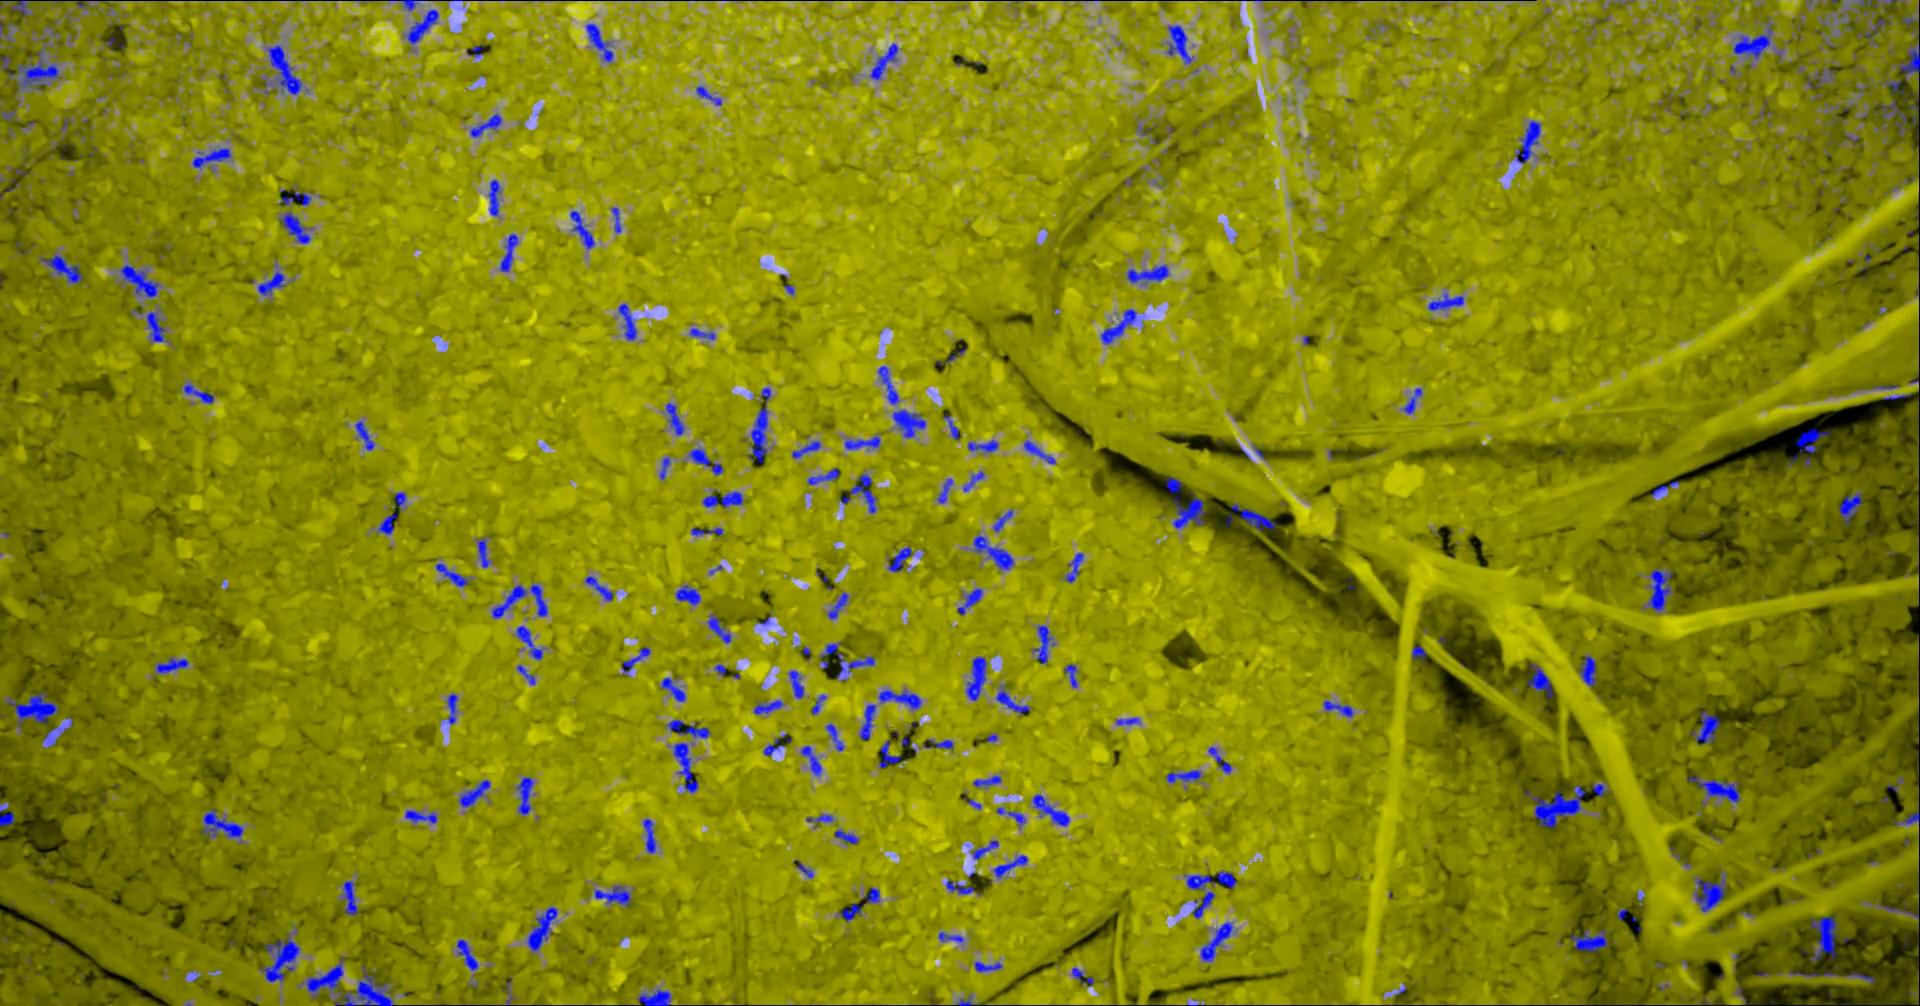ant: (1524, 785, 1585, 827), (334, 965, 394, 1005), (1164, 478, 1205, 528), (1874, 79, 1910, 136), (8, 50, 58, 89), (820, 641, 874, 678), (491, 584, 547, 619), (259, 934, 298, 982), (265, 44, 301, 94), (5, 692, 58, 725), (747, 387, 770, 464), (306, 956, 343, 998), (1732, 22, 1771, 58), (1796, 427, 1831, 467), (839, 473, 875, 513), (1897, 15, 1919, 81), (973, 535, 1013, 569), (527, 906, 557, 951), (1225, 503, 1275, 531), (1100, 307, 1137, 344), (672, 742, 698, 793), (1688, 775, 1738, 801), (1183, 874, 1214, 918), (1200, 921, 1233, 962), (119, 264, 159, 297), (41, 254, 83, 285), (201, 808, 243, 838), (1810, 916, 1837, 962), (1695, 871, 1726, 911), (1032, 794, 1069, 826), (1514, 119, 1540, 163), (406, 9, 438, 44), (1646, 568, 1672, 610), (585, 23, 613, 62), (1689, 710, 1719, 746), (1893, 784, 1919, 826), (278, 211, 310, 243), (1167, 24, 1192, 64), (869, 43, 897, 79), (569, 210, 594, 248), (965, 655, 987, 700), (891, 409, 924, 437), (516, 625, 542, 659), (1526, 663, 1553, 697), (1857, 14, 1890, 41), (877, 688, 921, 709), (688, 448, 723, 474), (1570, 929, 1608, 951), (992, 854, 1027, 878), (877, 739, 907, 768), (458, 779, 489, 807), (1032, 624, 1054, 663), (996, 688, 1029, 714), (1126, 264, 1170, 283), (877, 365, 898, 404), (1877, 899, 1919, 918), (1837, 492, 1862, 525), (436, 563, 469, 587), (594, 885, 631, 907), (665, 719, 710, 737), (621, 647, 650, 673), (192, 147, 230, 168), (470, 113, 502, 137), (1023, 439, 1055, 464), (456, 939, 477, 970), (499, 232, 517, 271), (617, 304, 636, 339), (516, 776, 533, 814), (257, 271, 284, 295), (584, 575, 612, 600), (707, 615, 731, 643), (702, 490, 743, 507), (957, 588, 982, 615), (1208, 746, 1230, 774), (1427, 292, 1463, 310), (146, 311, 168, 340), (800, 746, 822, 775), (183, 382, 213, 403), (888, 546, 912, 572), (858, 704, 875, 741), (935, 345, 966, 365), (996, 807, 1025, 827), (665, 401, 683, 434), (660, 677, 684, 701), (1577, 655, 1596, 686), (827, 592, 848, 619), (356, 420, 375, 450), (791, 439, 820, 459), (1064, 553, 1083, 582), (155, 657, 188, 673), (695, 85, 721, 105), (1857, 0, 1903, 11), (342, 880, 357, 915), (1402, 387, 1421, 414), (971, 840, 998, 859), (808, 467, 838, 484), (637, 989, 670, 1005), (825, 721, 843, 749), (1164, 768, 1200, 782), (278, 189, 310, 205), (43, 727, 69, 746), (1323, 700, 1352, 716), (844, 434, 879, 448), (963, 470, 984, 492), (992, 509, 1012, 532), (676, 586, 700, 605), (488, 179, 500, 215), (643, 818, 655, 854), (1788, 967, 1839, 976), (787, 669, 803, 699), (753, 699, 782, 714), (945, 879, 974, 894), (1070, 967, 1093, 986), (837, 903, 861, 921), (1651, 480, 1679, 495), (936, 478, 952, 503), (10, 0, 37, 15), (943, 413, 959, 439), (404, 810, 436, 823), (1907, 90, 1919, 124), (968, 439, 998, 452), (377, 513, 396, 533), (1213, 870, 1236, 887), (389, 0, 425, 10), (1909, 968, 1919, 1005), (516, 664, 535, 683), (1843, 972, 1874, 983), (762, 738, 783, 754), (446, 694, 457, 724), (1063, 663, 1077, 687), (0, 801, 14, 826), (834, 829, 858, 843), (477, 537, 489, 567), (971, 775, 1001, 786), (805, 814, 834, 826), (690, 326, 715, 339), (1806, 70, 1823, 88), (811, 694, 825, 714), (938, 931, 963, 942), (795, 861, 813, 876), (861, 887, 879, 902), (923, 739, 952, 748), (611, 207, 621, 232), (690, 527, 723, 535), (1591, 782, 1609, 796), (974, 962, 1002, 970), (659, 456, 669, 479), (1411, 645, 1426, 661), (956, 995, 979, 1005), (1115, 716, 1140, 725), (394, 492, 405, 511), (467, 44, 483, 56), (0, 55, 11, 69), (0, 109, 14, 121), (1917, 399, 1919, 490)
